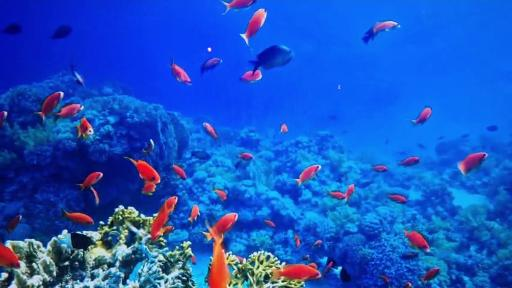Fish: (208, 225, 230, 288), (151, 196, 177, 240), (251, 45, 292, 72), (125, 157, 161, 186), (202, 213, 238, 241), (240, 9, 266, 45), (362, 21, 400, 43), (77, 172, 103, 203), (36, 92, 63, 121), (35, 91, 63, 118), (273, 264, 321, 279), (458, 152, 487, 174), (170, 57, 191, 85), (458, 152, 487, 172), (295, 165, 321, 186), (403, 230, 429, 251), (61, 209, 94, 225), (0, 243, 20, 269), (223, 0, 256, 14), (55, 104, 83, 118), (77, 118, 93, 139), (412, 107, 431, 124), (201, 58, 222, 73), (51, 25, 72, 38), (240, 70, 262, 82), (203, 123, 218, 139), (71, 233, 90, 244), (188, 205, 199, 223), (75, 213, 93, 224), (399, 157, 420, 166), (173, 165, 186, 179), (142, 183, 156, 195), (389, 194, 406, 202), (0, 111, 7, 127), (372, 165, 387, 171)
